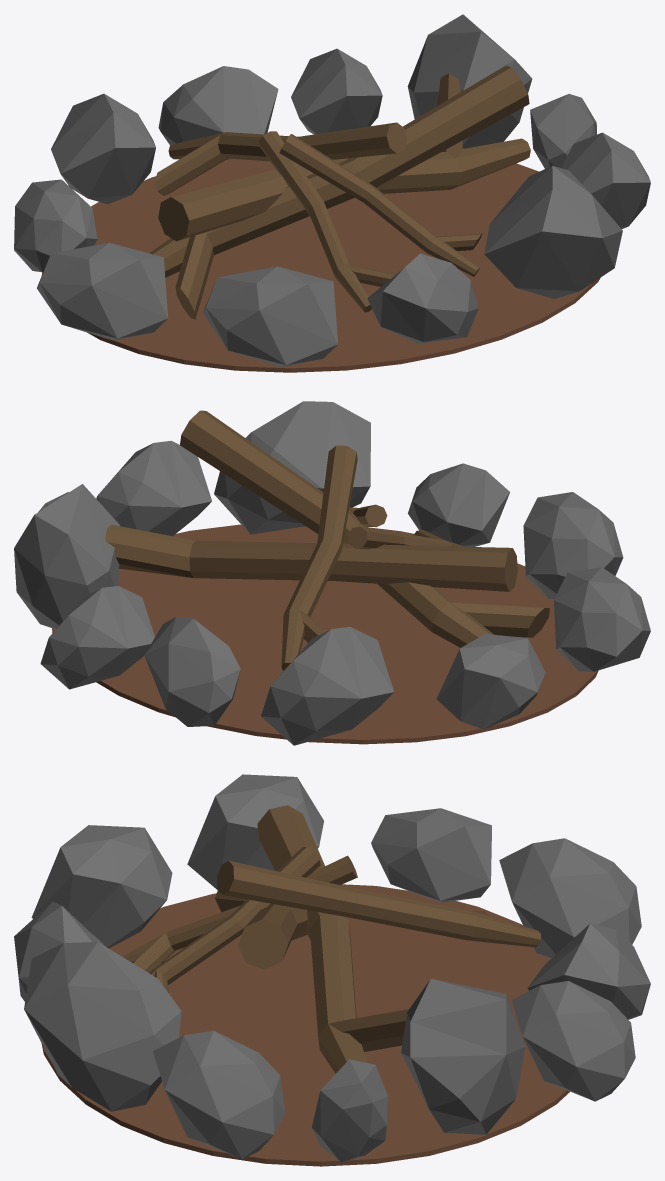
The model's file is campfire.fbx.
3 renders of one model, top to bottom at view 1: azimuth 30°, elevation 25°; view 2: azimuth 150°, elevation 25°; view 3: azimuth 270°, elevation 25°, orthographic. The views are drawn at different scales.
Visible parts, largest first — view 1: campfire; view 2: campfire; view 3: campfire.
Boxes of the visible parts, x1,y1,x2,y2 form: campfire: (14,14,650,372); campfire: (14,401,650,745); campfire: (14,774,650,1166).
Bounding box in the file's own units: 1144 × 325 × 967.
